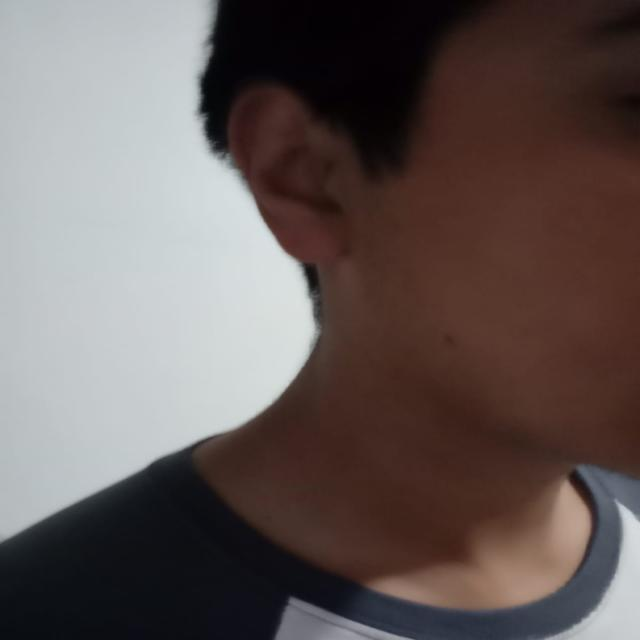ear: (228, 82, 358, 264)
